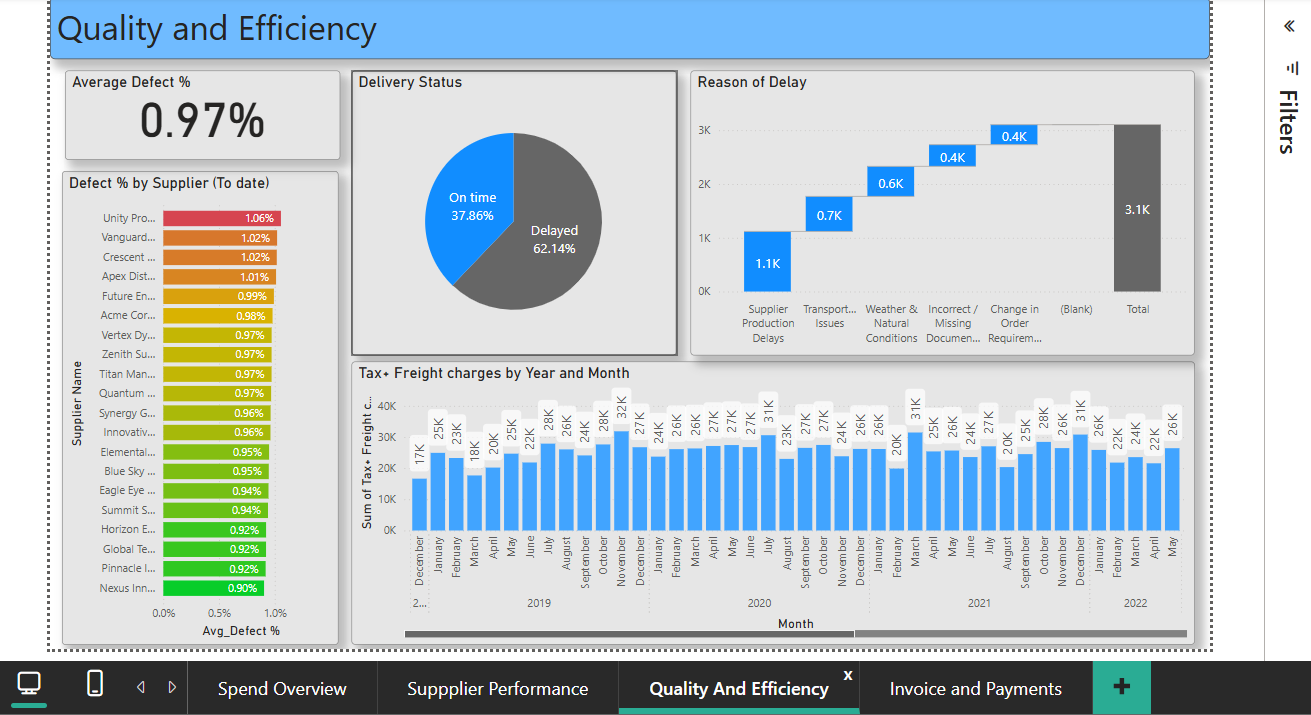

This screenshot's page, from the dashboard's own definition file:
{"tool":"powerbi","page":{"name":"Quality And Efficiency","canvas":[1280,720],"ordinal":2},"visuals":[{"type":"pieChart","title":"Delivery Status ","fields":{"Category":["1744566314664x46629731954938890.Delivery_Delay"],"Y":["1744566314664x46629731954938890.Total count of deliveries"]},"box":[333.8,80.8,358.4,314.4],"z":0},{"type":"textbox","box":[13.3,0,1250.6,67.9],"z":1000},{"type":"barChart","title":"Defect % by Supplier (To date)","fields":{"Category":["1744566314664x46629731954938890.Supplier Name"],"Y":["1744566314664x46629731954938890.Avg_Defect %"]},"box":[14.1,191.5,305.7,523.5],"z":2000},{"type":"card","title":"Average Defect %","fields":{"Values":["1744566314664x46629731954938890.Avg_defect_percentage"]},"box":[15.8,80.8,303.9,98.4],"z":3000},{"type":"lineStackedColumnComboChart","title":"Tax+ Freight charges  by Year and Month","fields":{"Y":["Sum(1744566314664x46629731954938890.Tax+ Freight charges )"],"Category":["1744566314664x46629731954938890.Order Request Date.Variation.Date Hierarchy.Year","1744566314664x46629731954938890.Order Request Date.Variation.Date Hierarchy.Month"]},"box":[333.8,402.3,931,312.7],"z":4000},{"type":"waterfallChart","title":"Reason of Delay","fields":{"Category":["1744566314664x46629731954938890.Delay Reason"],"Y":["1744566314664x46629731954938890.Count of delayed deliveries"]},"box":[707.9,80.8,556.9,314.4],"z":5000}]}

Visuals, with their boxes on the page's 1280x720 design canvas (x1, y1, x2, y2). These are canvas units, not pixel positions in the 1311x715 screenshot, which may show the page scaled, cropped or inside an application window:
"Delivery Status " pieChart: [left=334, top=81, right=692, bottom=395]
textbox: [left=13, top=0, right=1264, bottom=68]
"Defect % by Supplier (To date)" barChart: [left=14, top=192, right=320, bottom=715]
"Average Defect %" card: [left=16, top=81, right=320, bottom=179]
"Tax+ Freight charges  by Year and Month" lineStackedColumnComboChart: [left=334, top=402, right=1265, bottom=715]
"Reason of Delay" waterfallChart: [left=708, top=81, right=1265, bottom=395]
